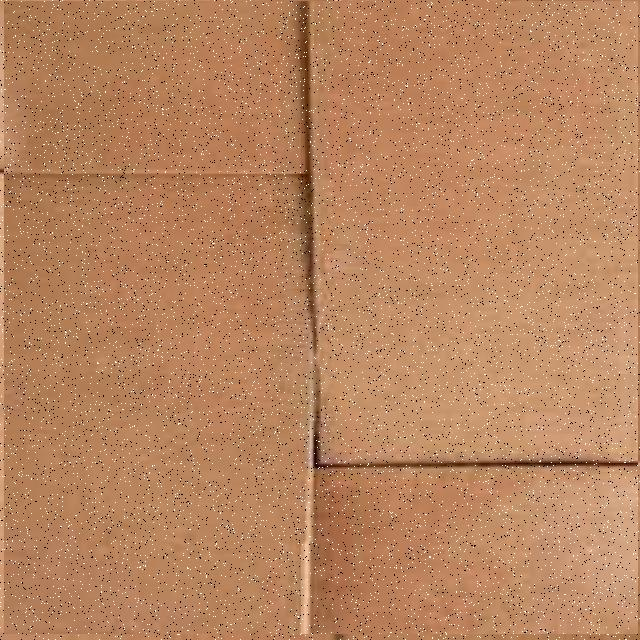normal: (4, 1, 638, 634)
